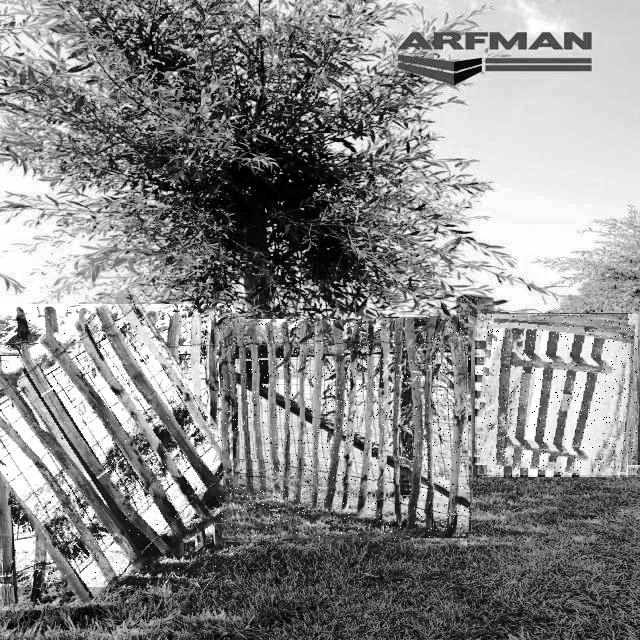fences: (0, 304, 235, 587), (220, 317, 470, 540), (477, 314, 638, 475)
